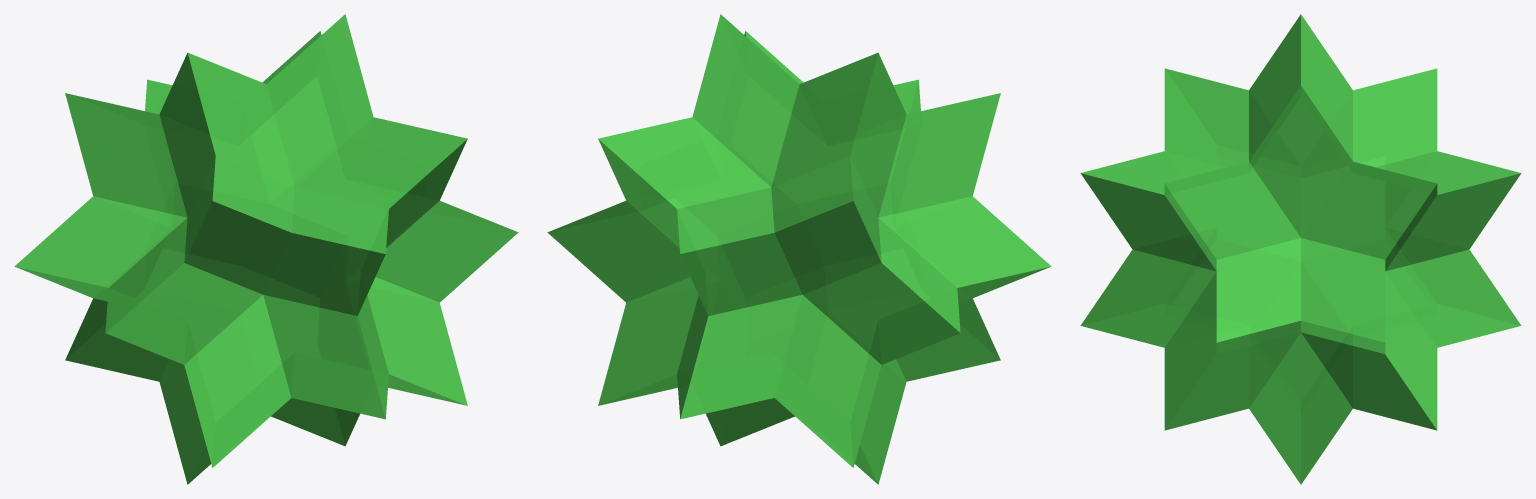
File: RhombicHexecontahedron.obj
The picture shows the model from 3 angles, left to right: view 1: azimuth 30°, elevation 25°; view 2: azimuth 150°, elevation 25°; view 3: azimuth 270°, elevation 25°; orthographic projection. The views are drawn at different scales.
Size of the model in its own units: 4.45 by 4.45 by 4.45.
